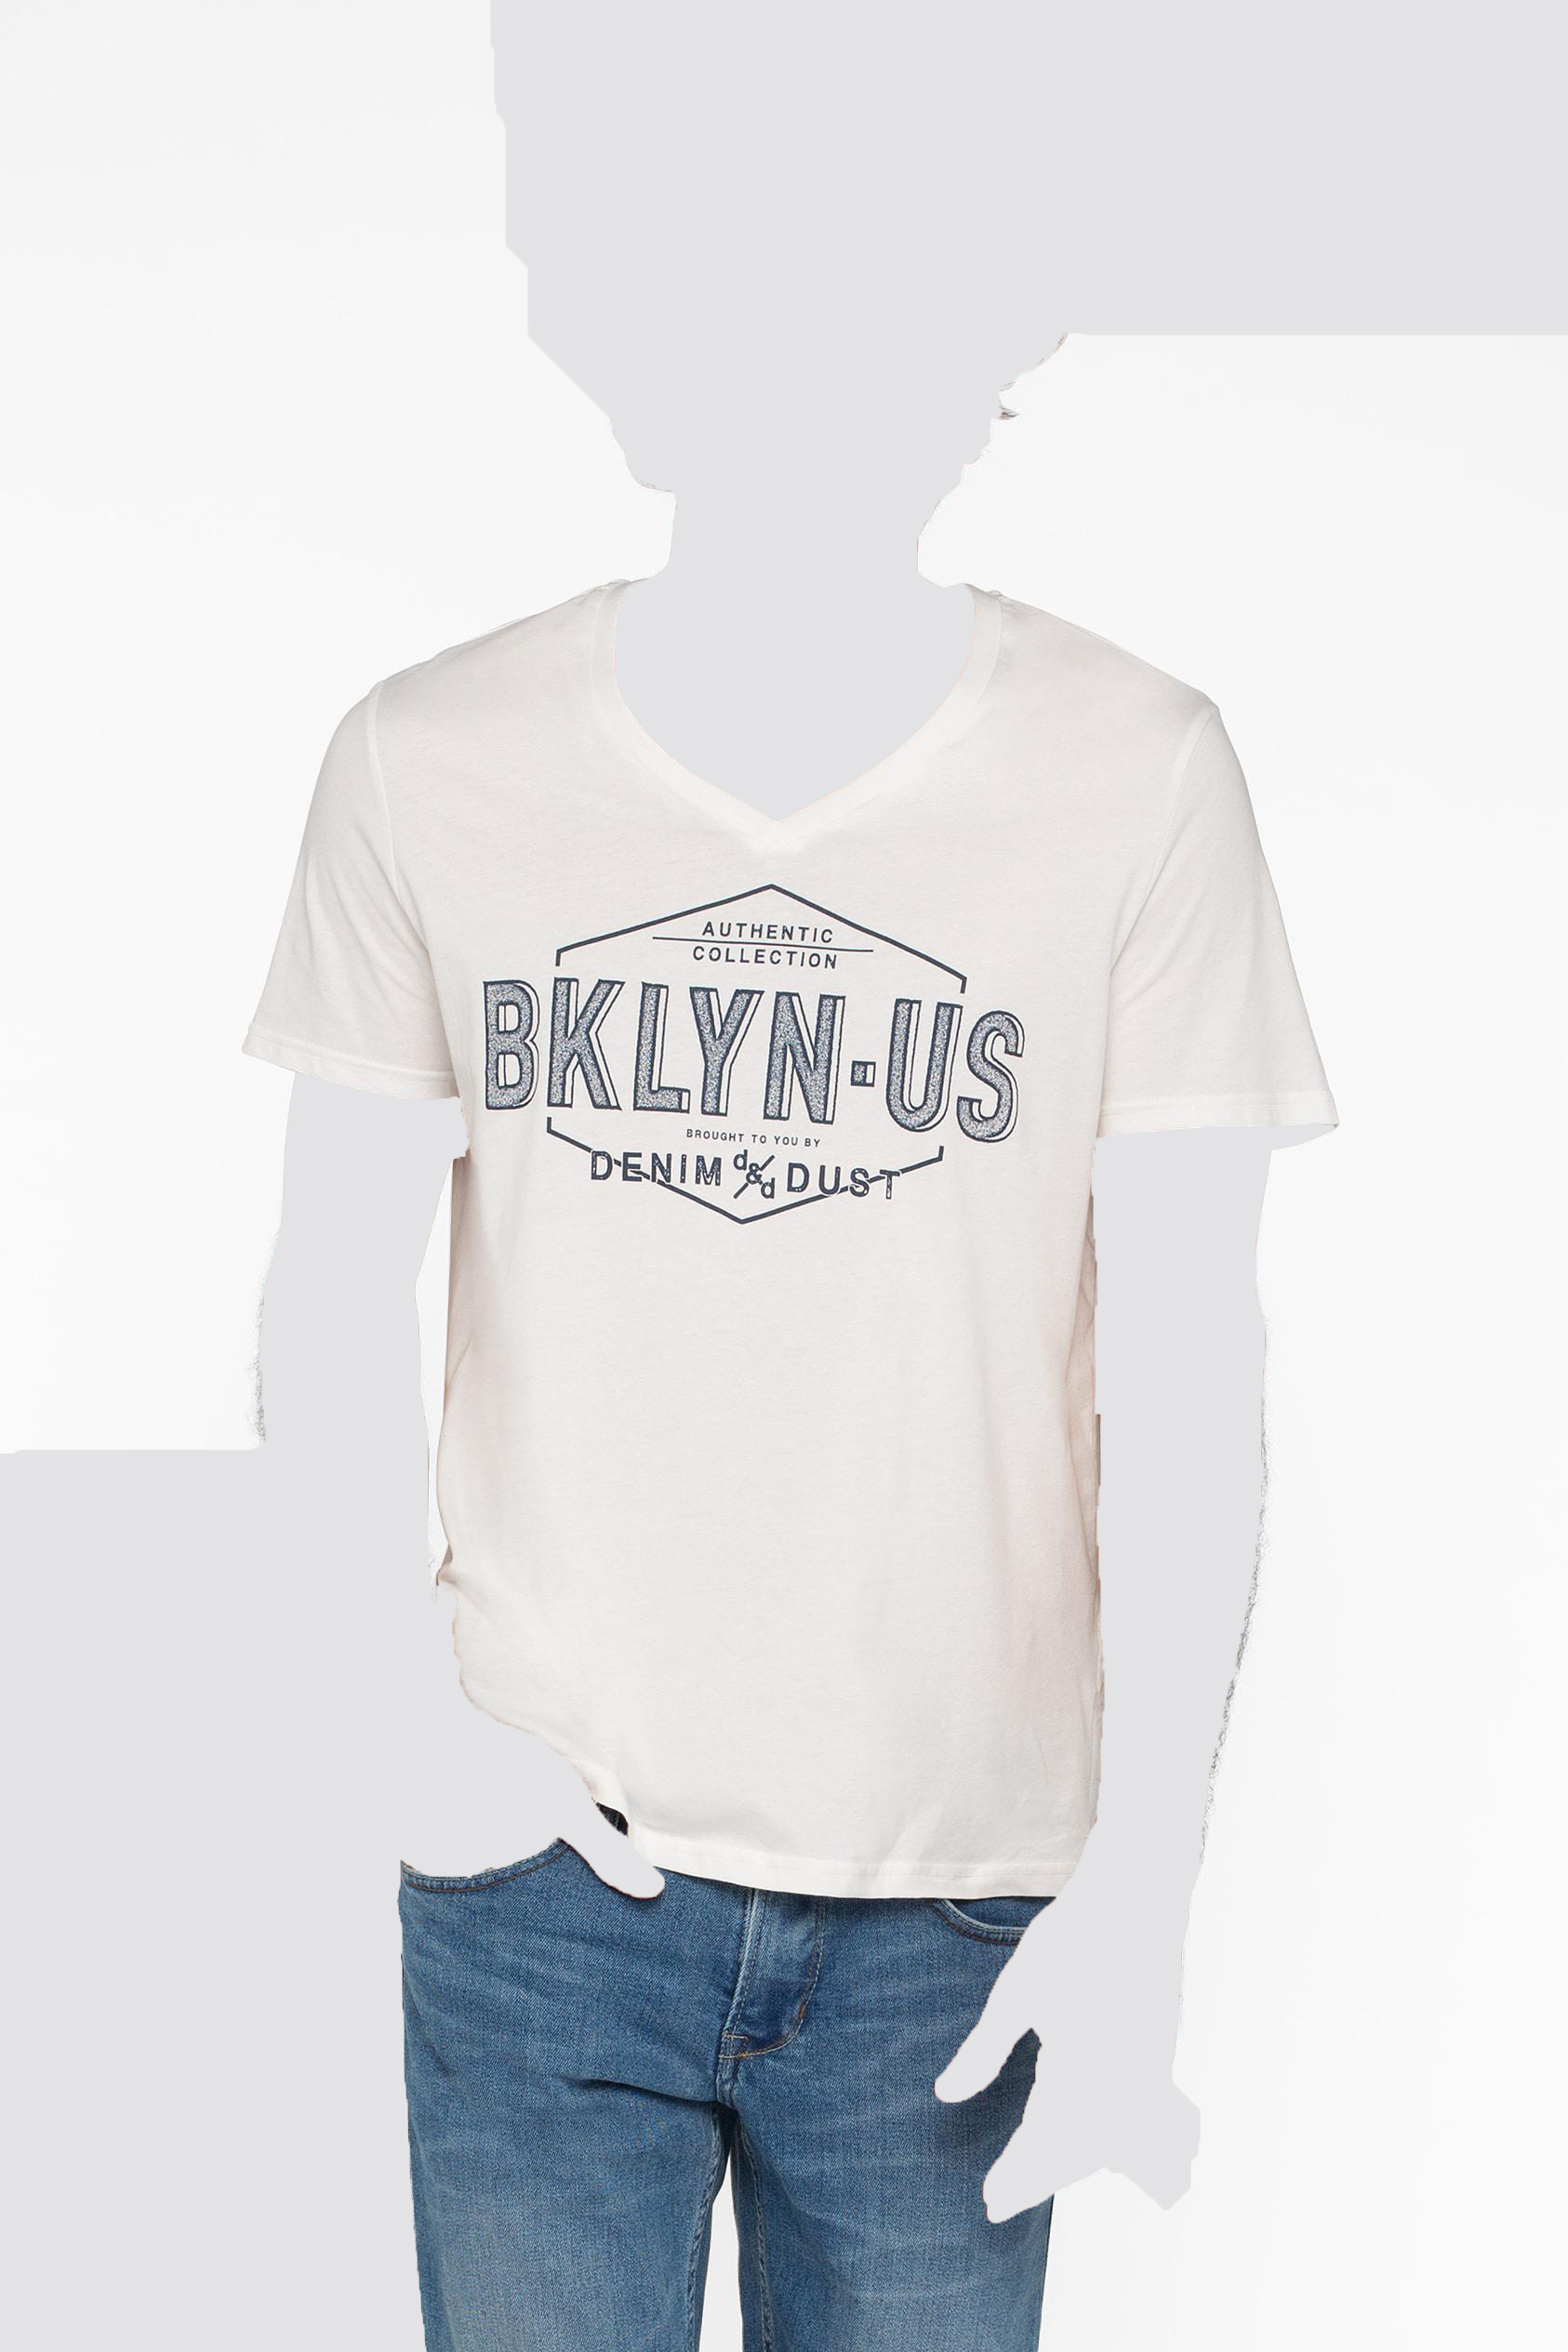teeshirt: (227, 560, 1337, 1991)
